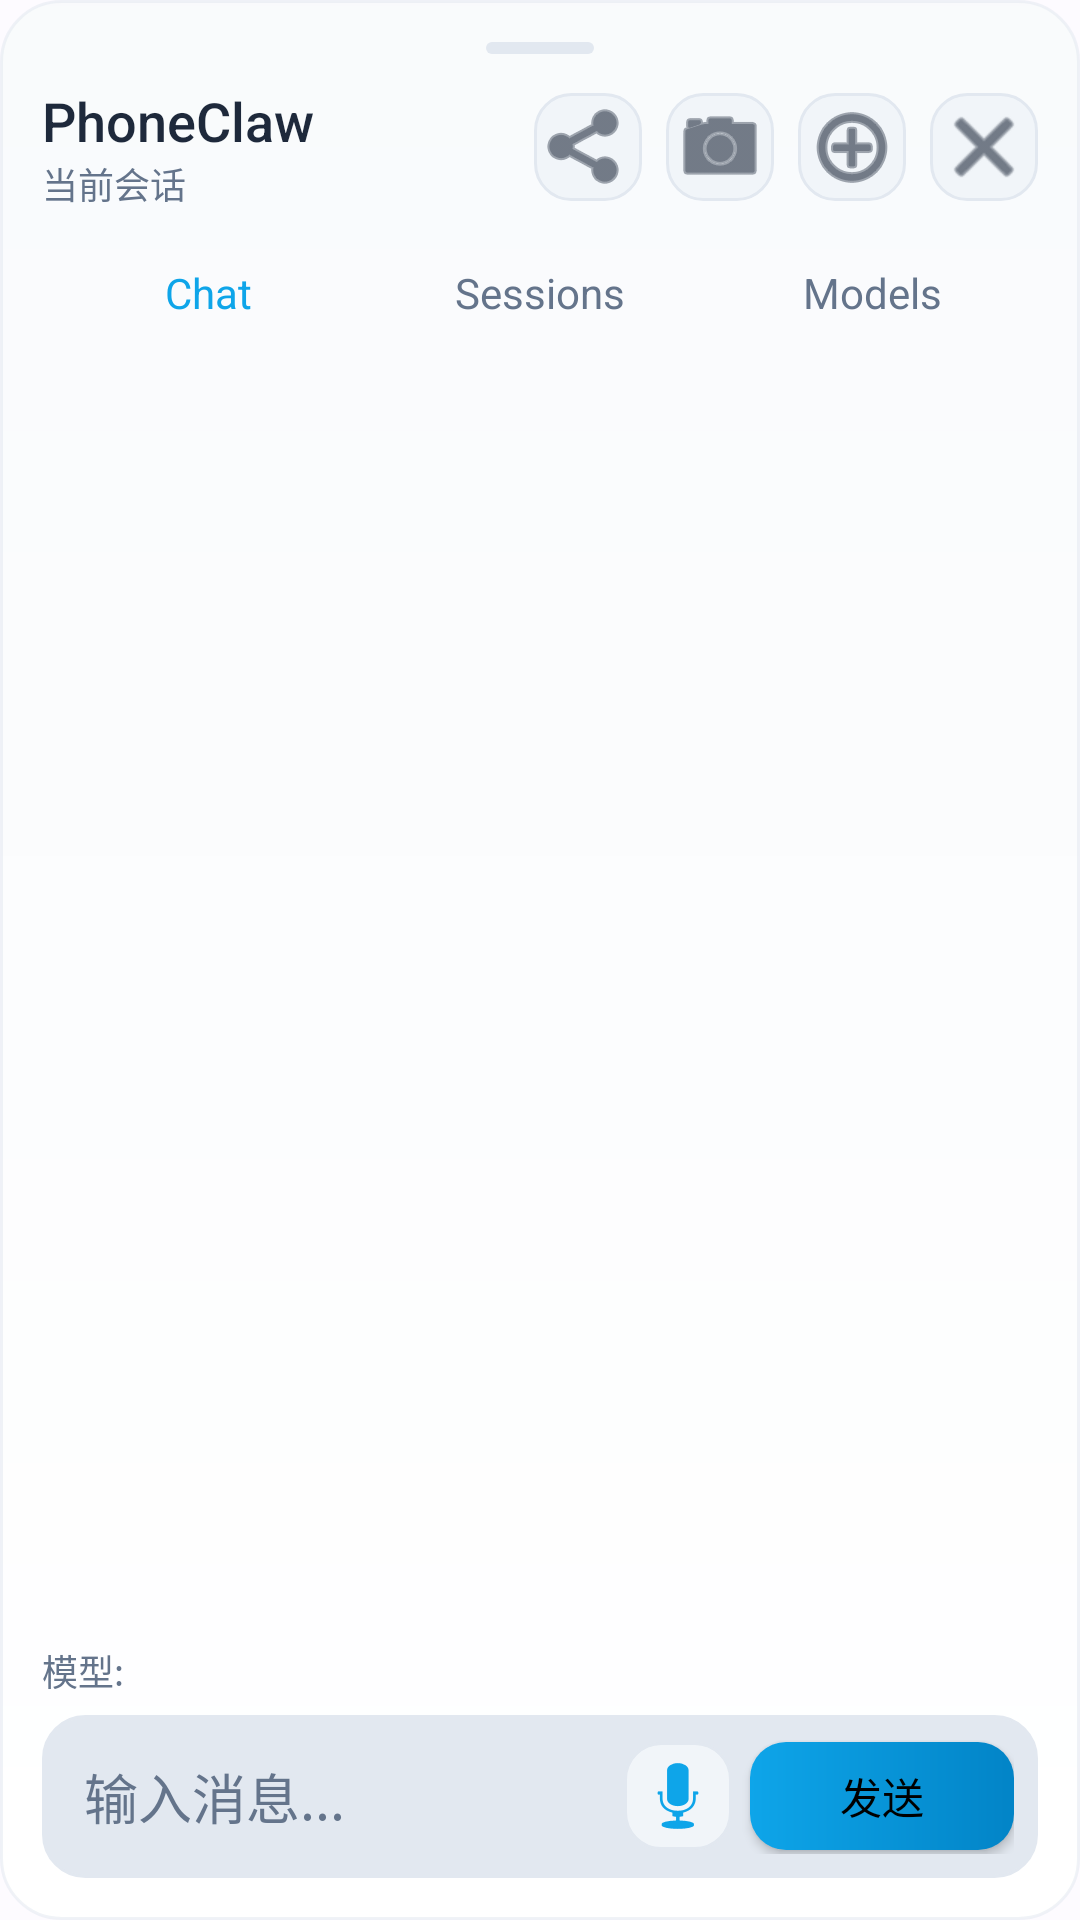

Icons on this 1080*1920 Android screen, each with the point to tap as (x,y):
Capture Screen: (720,145)
Collapse: (984,147)
Export Chat: (583,146)
New Session: (852,147)
Voice Input: (678,1796)
